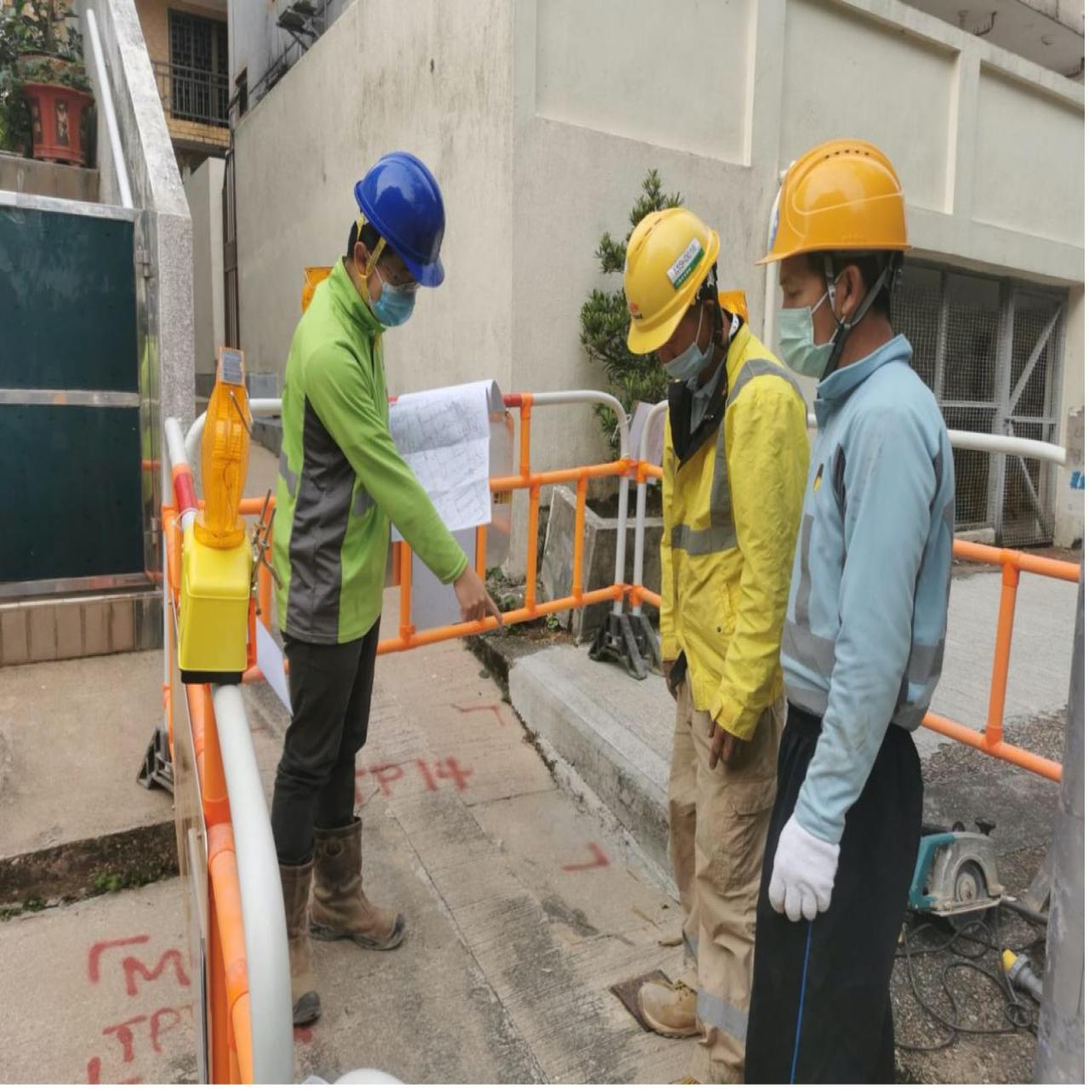NO_Safety_Vest: (789, 372, 958, 730), (277, 274, 410, 642), (661, 365, 784, 723)
Person: (739, 132, 971, 1089), (277, 127, 455, 1023), (613, 192, 797, 1045)
